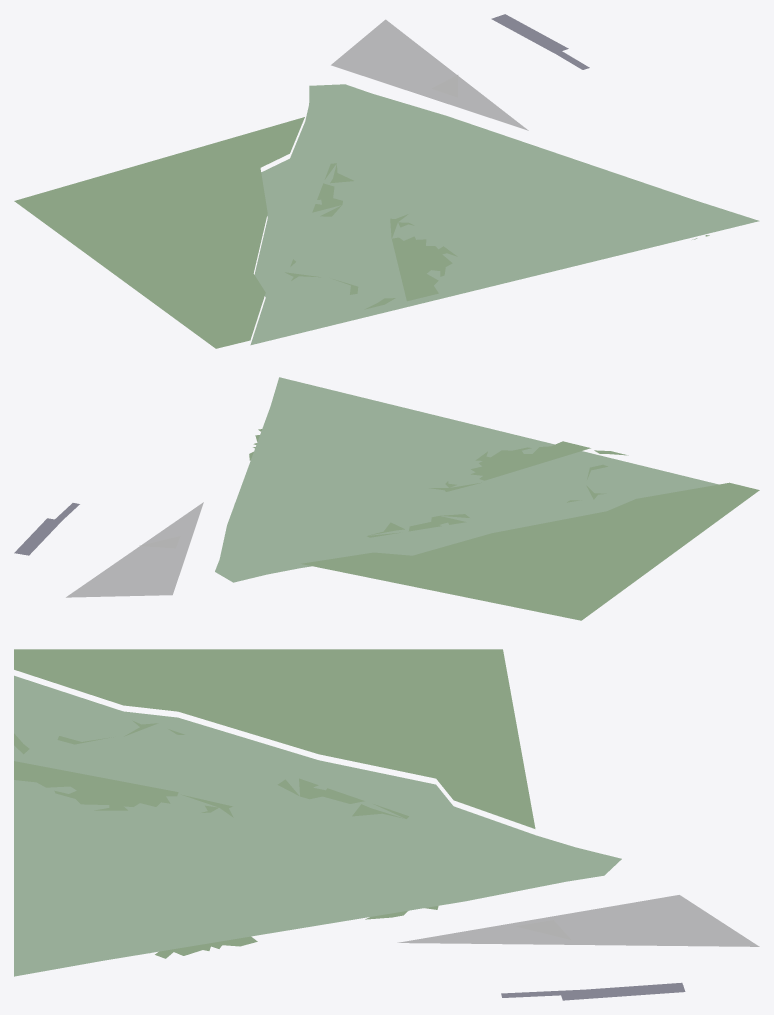
File: 123_117_mid.glb
The picture shows the model from 3 angles, top to bottom: view 1: azimuth 30°, elevation 25°; view 2: azimuth 150°, elevation 25°; view 3: azimuth 270°, elevation 25°; orthographic projection. The views are drawn at different scales.
Size of the model in its own units: 511 by 13.21 by 470.
